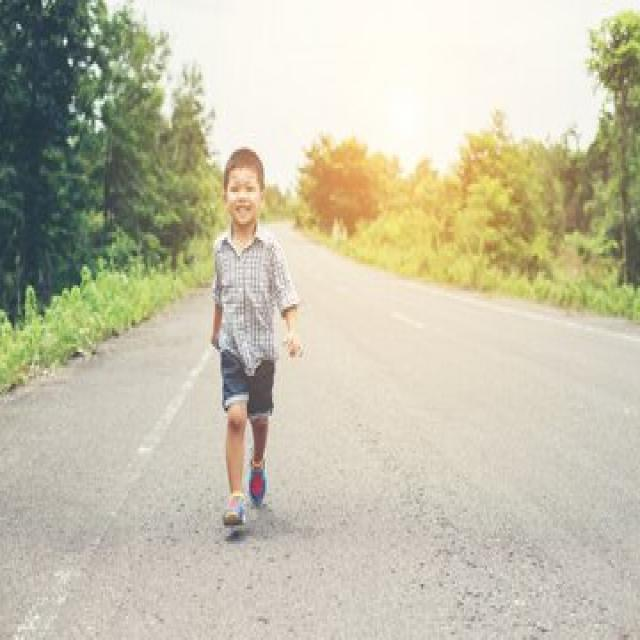Person: (211, 147, 301, 526)
